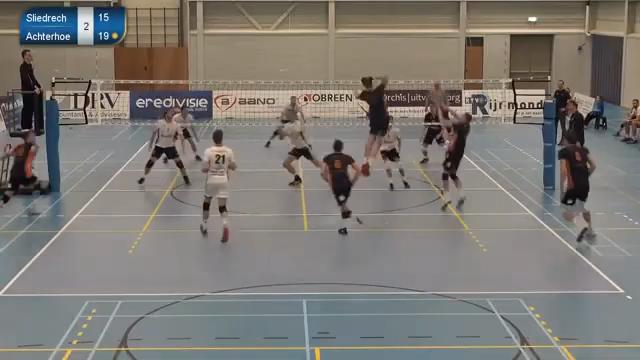Player: (558, 131, 595, 242), (200, 129, 235, 242), (138, 110, 189, 184), (321, 139, 359, 234), (2, 131, 47, 204), (356, 76, 388, 176), (278, 119, 320, 185), (380, 118, 409, 190), (173, 106, 201, 160), (420, 100, 443, 163), (279, 96, 305, 127)
Set: (430, 96, 471, 217)
